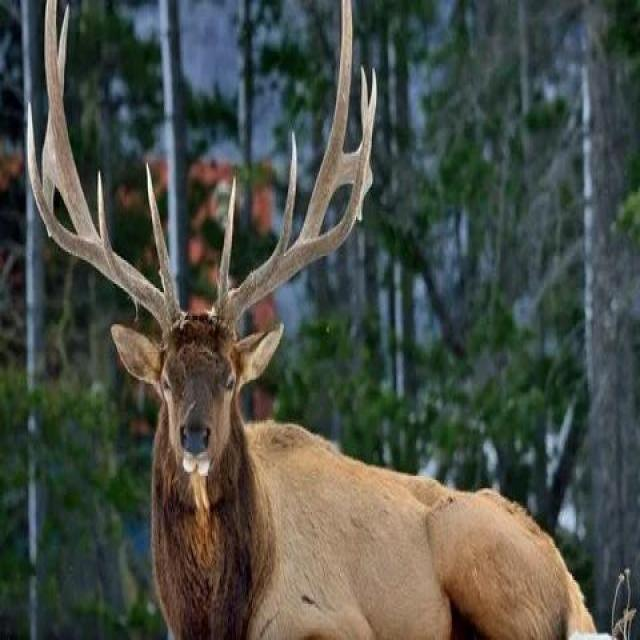deer: (87, 125, 634, 640)
